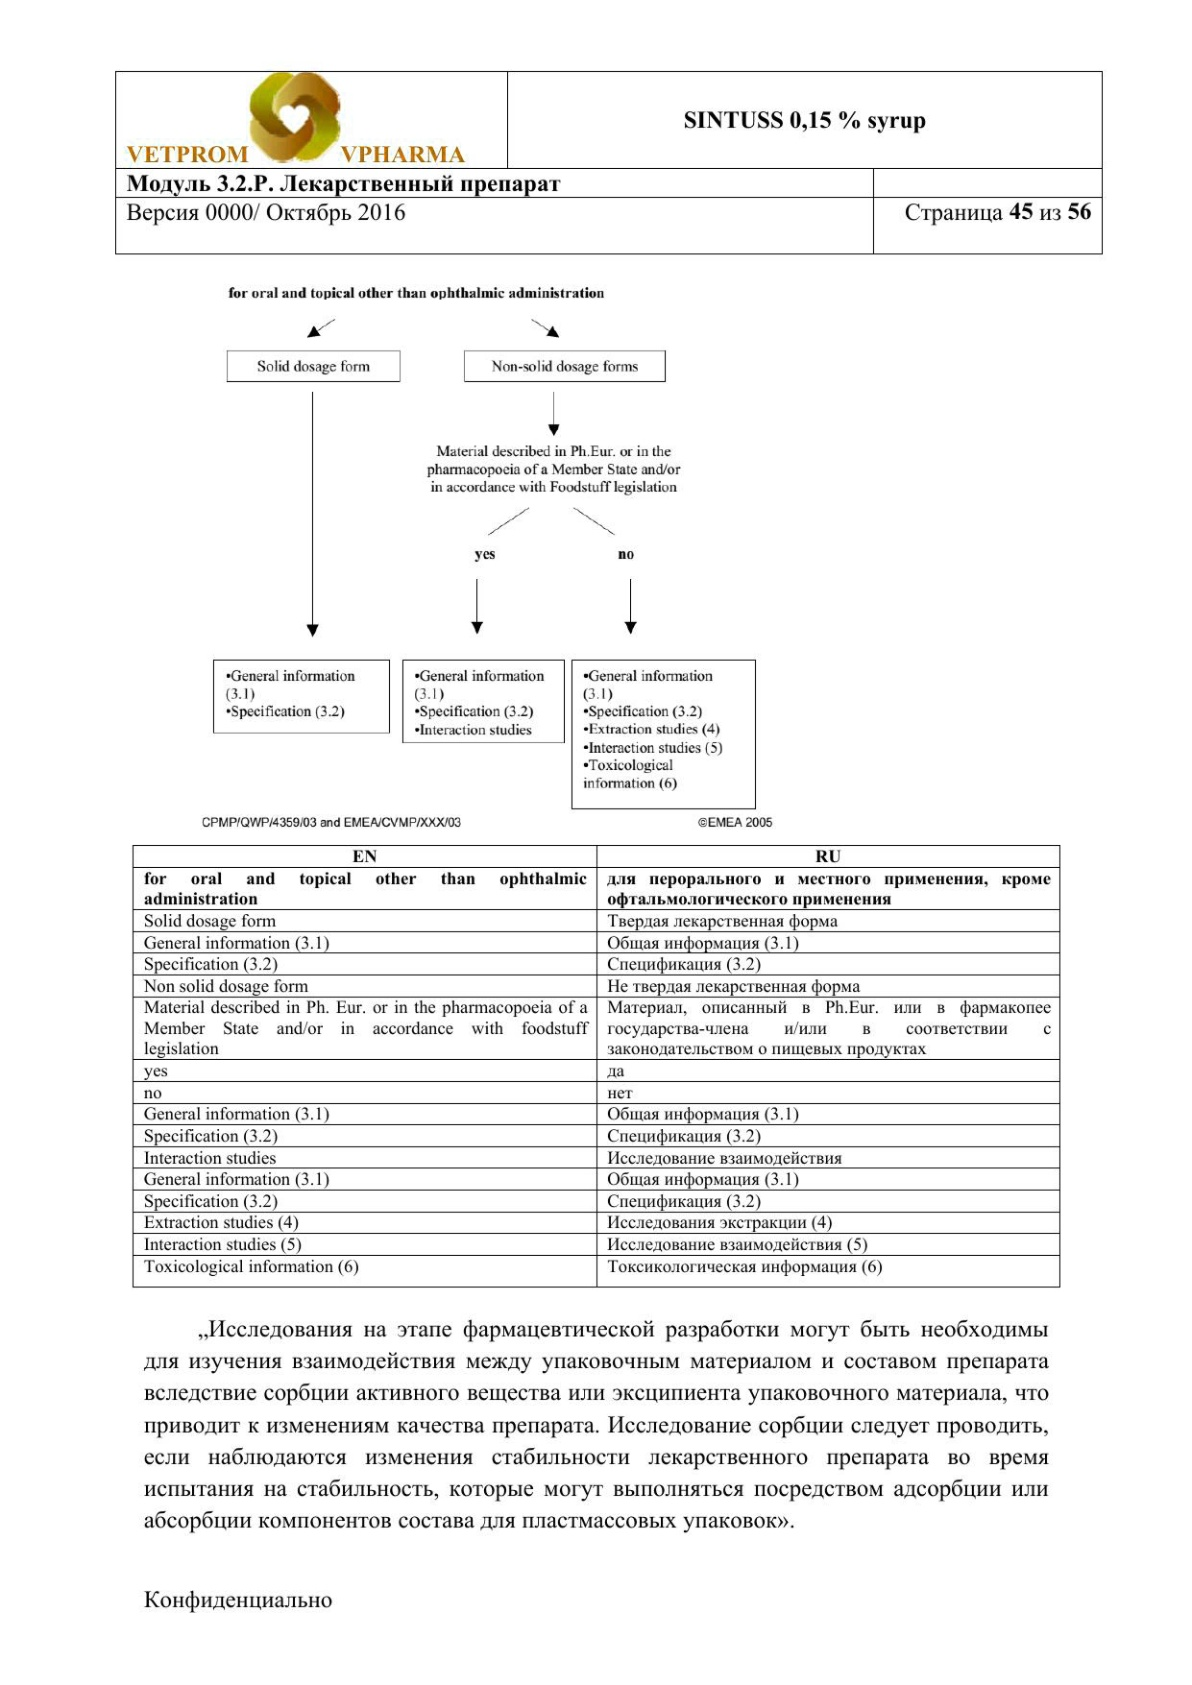full_lined: (132, 844, 1060, 1288)
merged_cells: (114, 70, 1103, 255)
